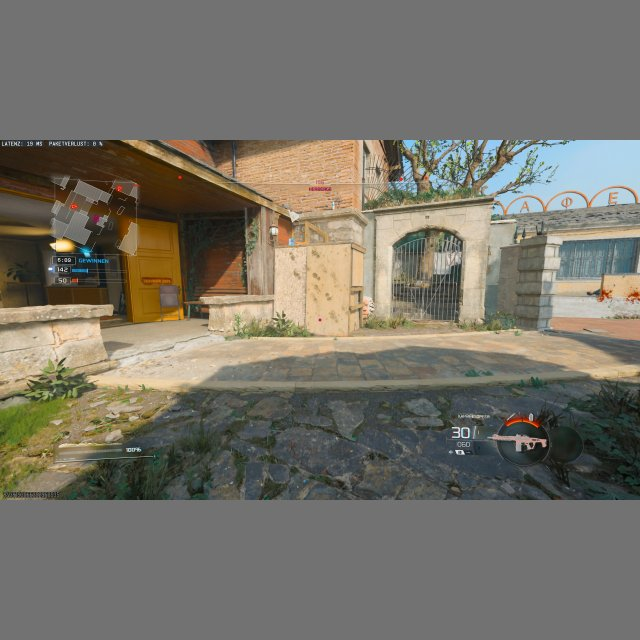player: (359, 295, 374, 327)
